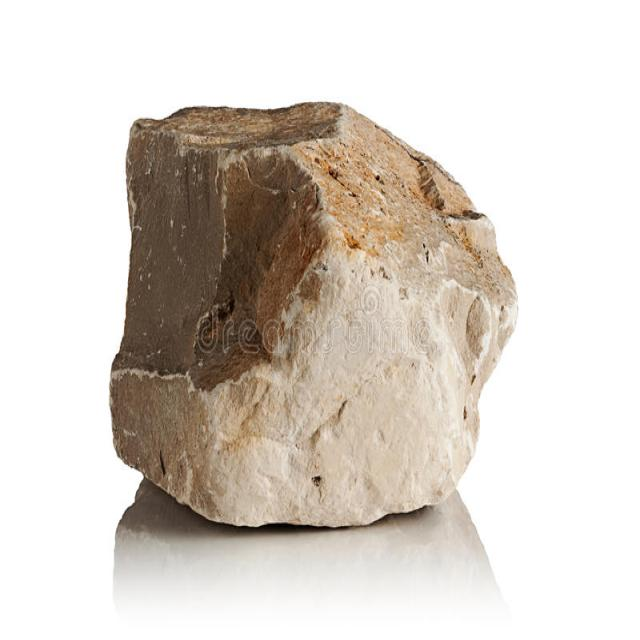Sedimentary: (107, 90, 524, 522)
